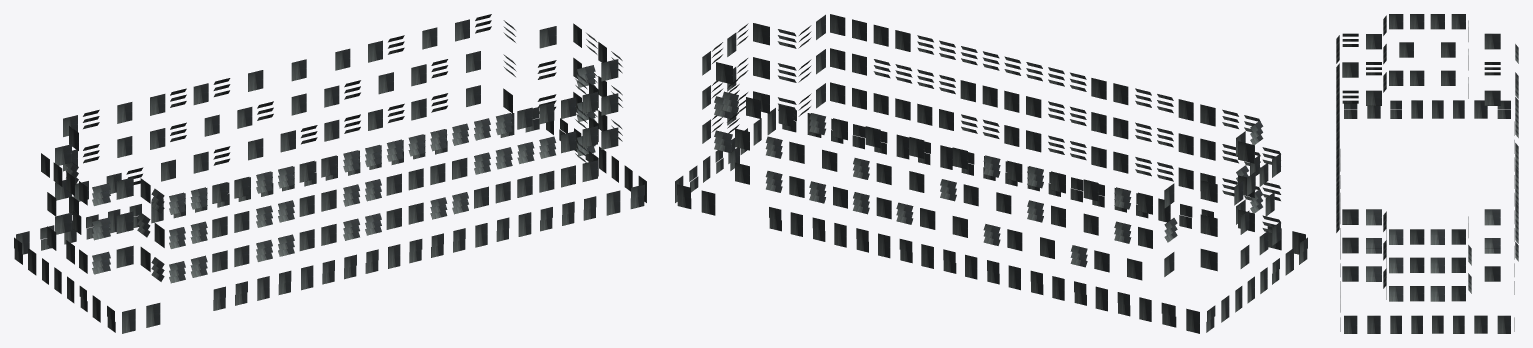
The model's file is TRANS_Building_4stores_BrickResidential.obj.
3 views of the same model, side by side, from view 1: azimuth 30°, elevation 25°; view 2: azimuth 150°, elevation 25°; view 3: azimuth 270°, elevation 25° (orthographic). The views are drawn at different scales.
Visible parts, largest first — view 1: TRANS_Building_4stores_BrickResidential; view 2: TRANS_Building_4stores_BrickResidential; view 3: TRANS_Building_4stores_BrickResidential.
Boxes of the visible parts, left/top/right/bottom form: TRANS_Building_4stores_BrickResidential: left=14, top=14, right=646, bottom=333; TRANS_Building_4stores_BrickResidential: left=675, top=14, right=1307, bottom=333; TRANS_Building_4stores_BrickResidential: left=1336, top=14, right=1518, bottom=333.
Bounding box in the file's own units: 16.14 × 3.63 × 5.74.
